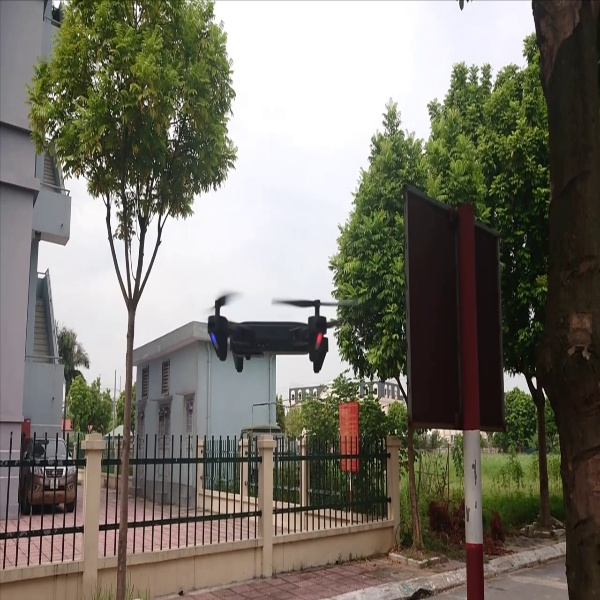drone: (192, 276, 369, 379)
